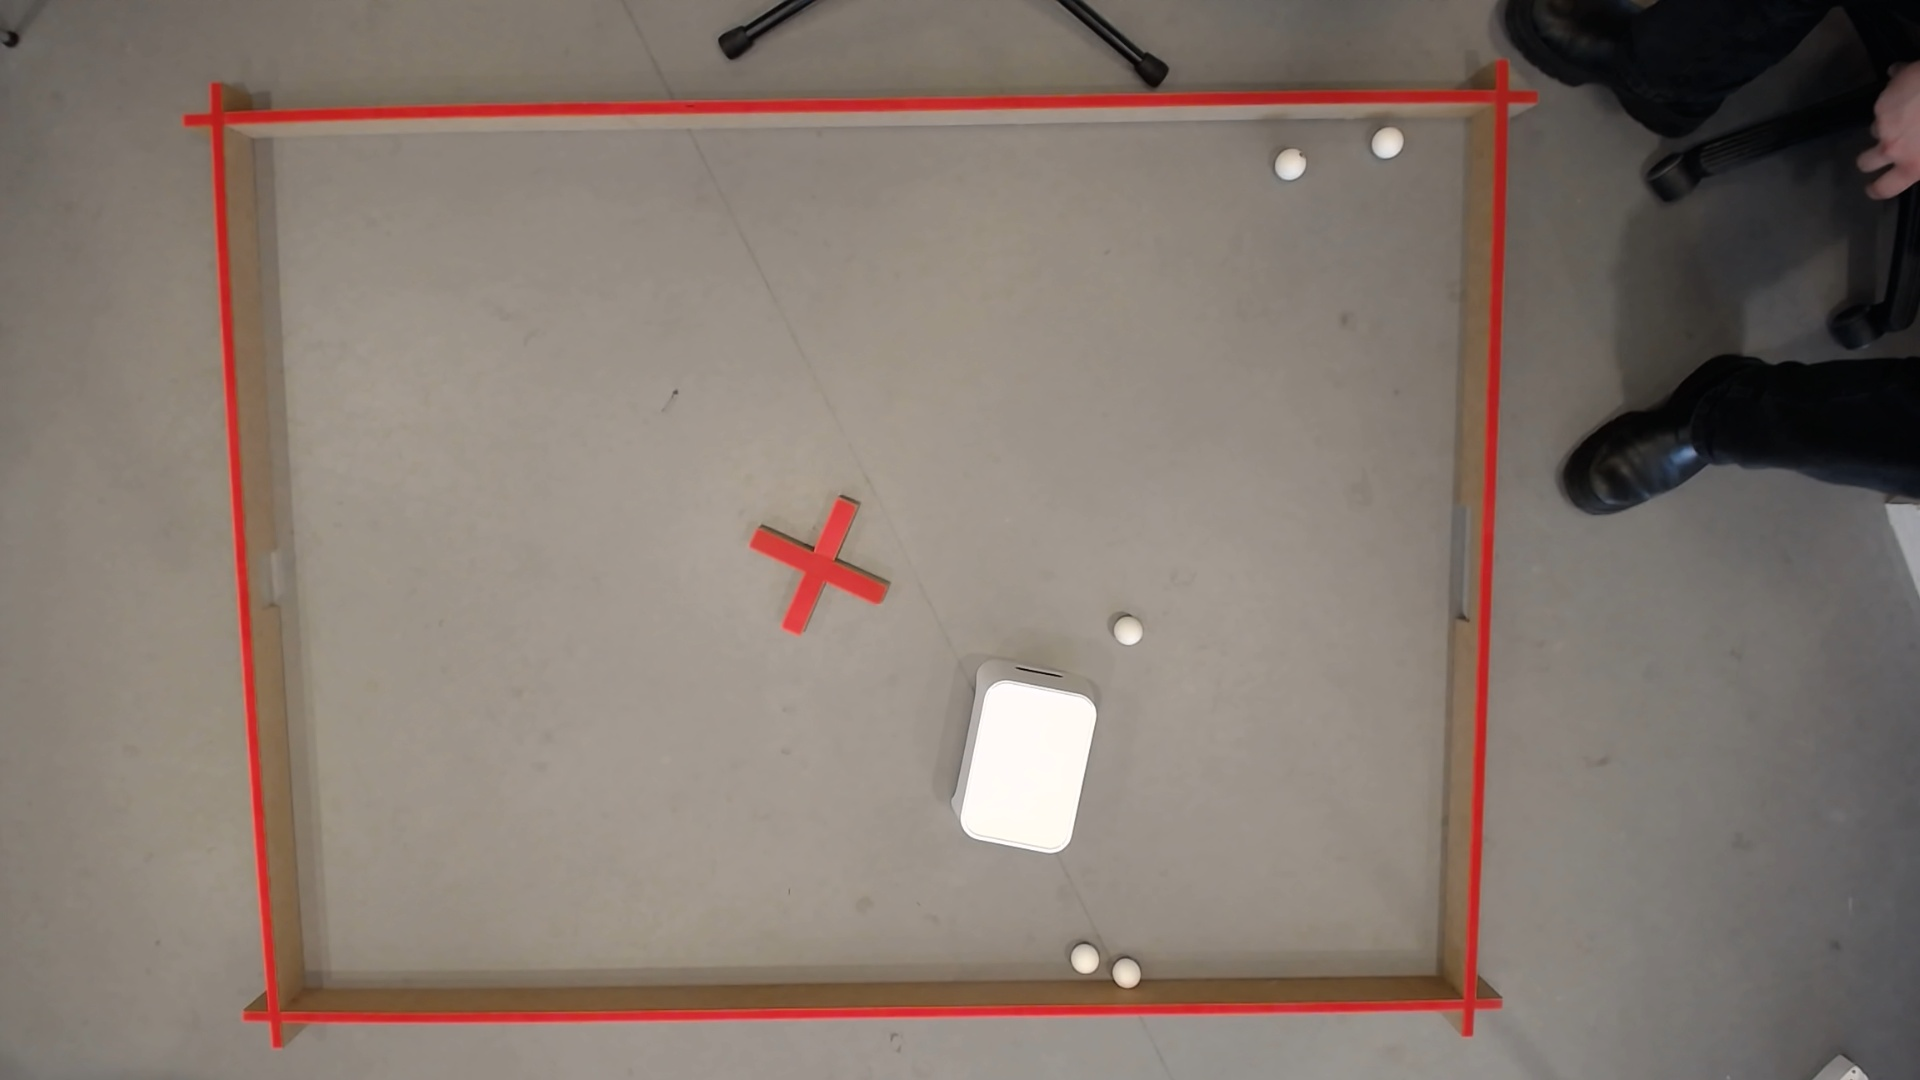balls: (954, 673, 1100, 858), (1370, 125, 1405, 162), (1273, 149, 1307, 184), (1111, 616, 1145, 650), (1072, 949, 1097, 972)
car: (1109, 959, 1141, 990)
